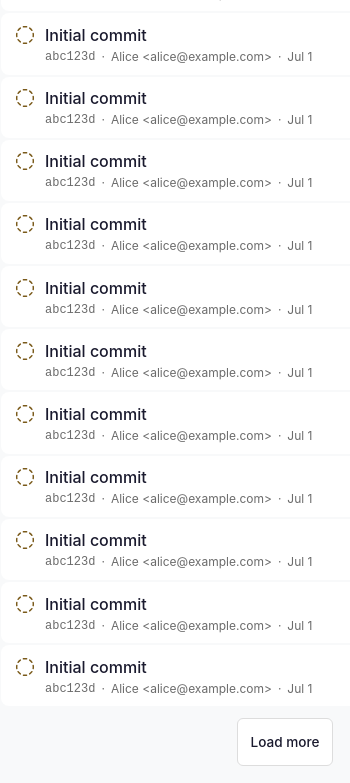
Test case: HistoryPage › pagination › disables the load-more button while a page is loading
(page scrolled)
Click the button with aria-label "Load more commits". click: (285, 742)
box: [238,718,332,766]
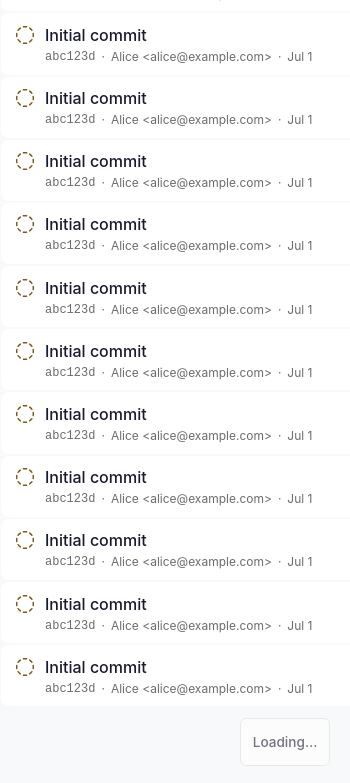
Check: the button with aria-label "Load more commits" is disabled, box [240,718,330,766]
